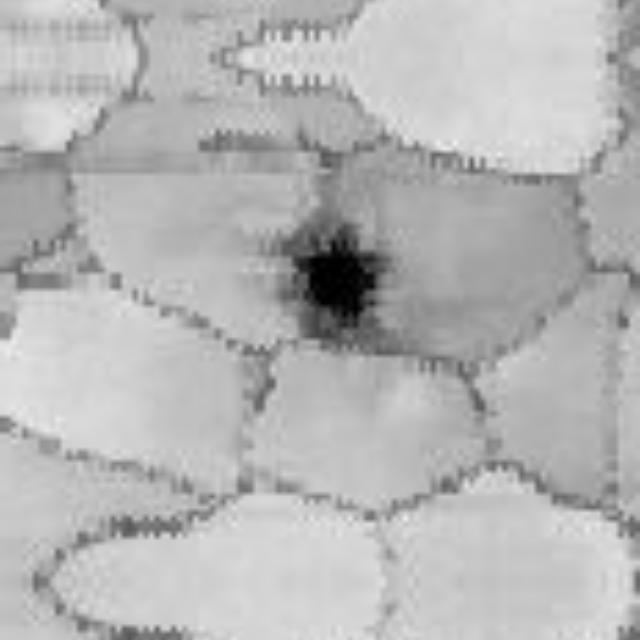good_void: (273, 215, 391, 354)
